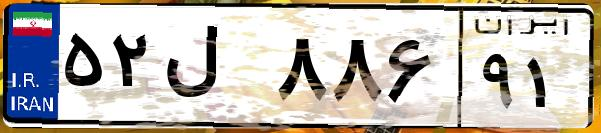1: (525, 38, 570, 115)
2: (110, 28, 158, 98)
5: (57, 26, 110, 100)
6: (385, 28, 445, 110)
8: (270, 28, 330, 110), (330, 28, 385, 110)
9: (475, 38, 525, 113)
ل: (158, 20, 270, 120)
